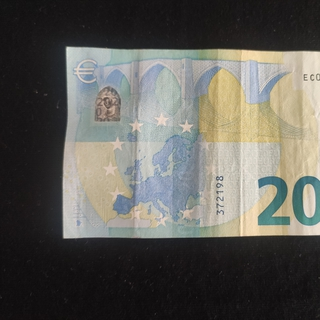20EUROBack: (61, 46, 320, 239)
